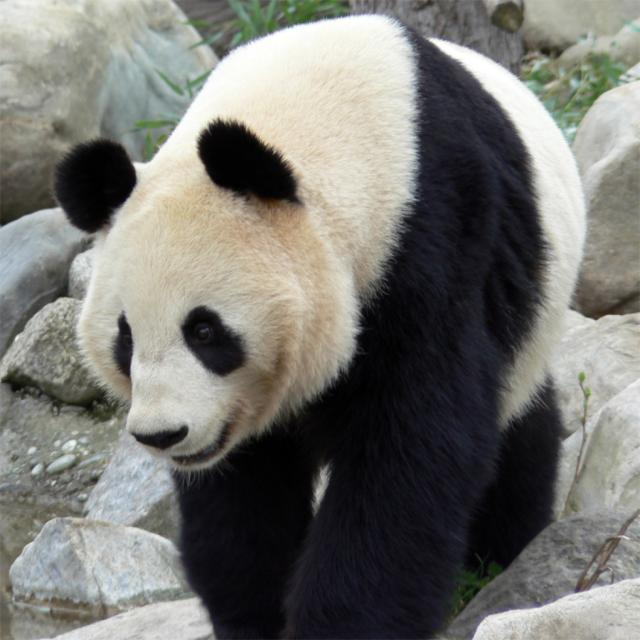panda: (51, 11, 588, 640)
